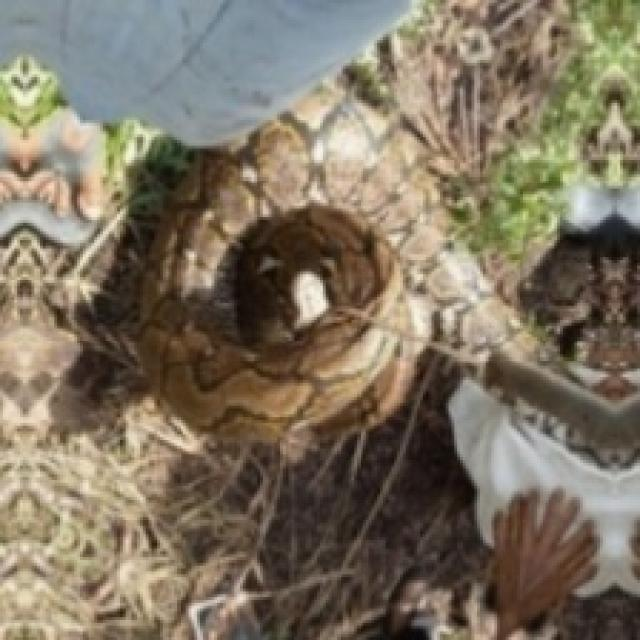reticulated python: (140, 81, 538, 438)
